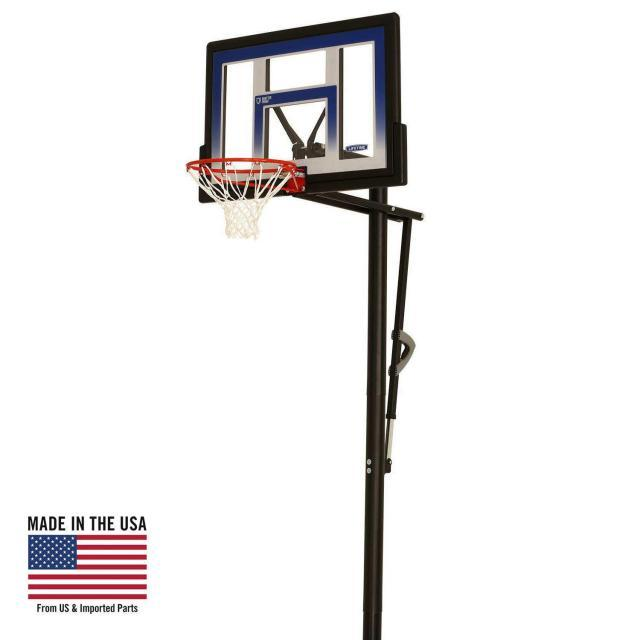hoop: (186, 157, 296, 240)
